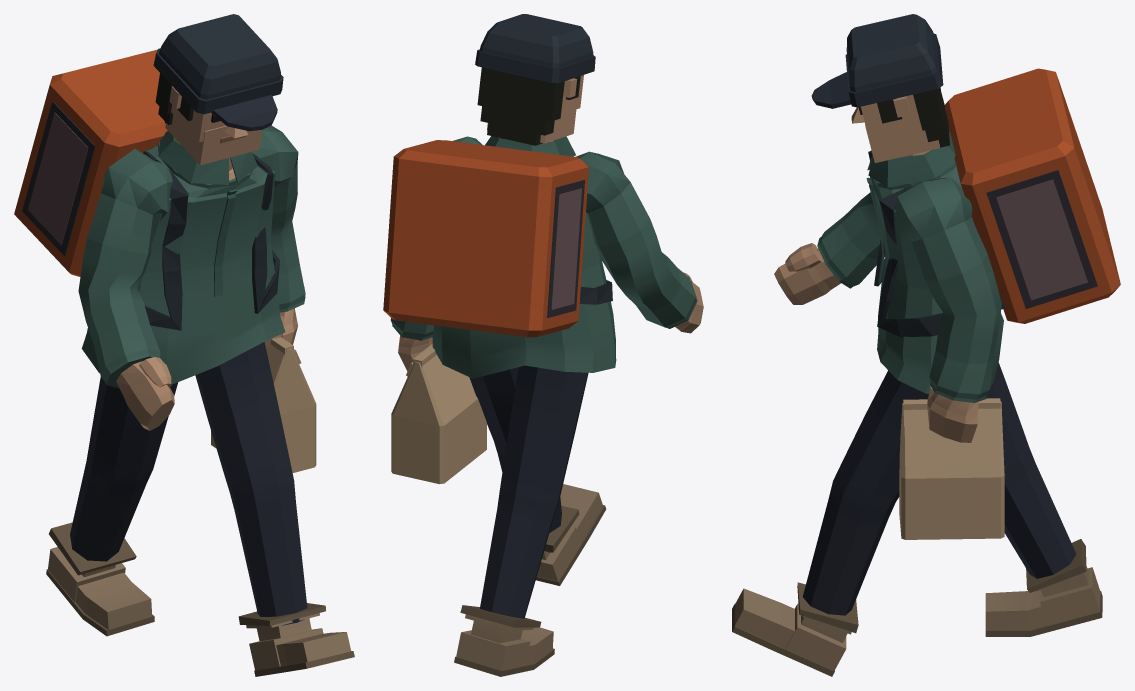
Rendered from delivery-courier-327e30__walk0.glb.
3 renders of one model, left to right at view 1: azimuth 30°, elevation 25°; view 2: azimuth 150°, elevation 25°; view 3: azimuth 270°, elevation 25°, orthographic. The views are drawn at different scales.
Visible parts, largest first — view 1: delivery-courier-327e30__walk0; view 2: delivery-courier-327e30__walk0; view 3: delivery-courier-327e30__walk0.
Boxes of the visible parts, bbox=[...] form: delivery-courier-327e30__walk0: bbox=[14, 14, 354, 676]; delivery-courier-327e30__walk0: bbox=[383, 14, 703, 676]; delivery-courier-327e30__walk0: bbox=[732, 14, 1120, 676].
Size of the model in its own units: 0.7492 by 1.73 by 0.9788.
